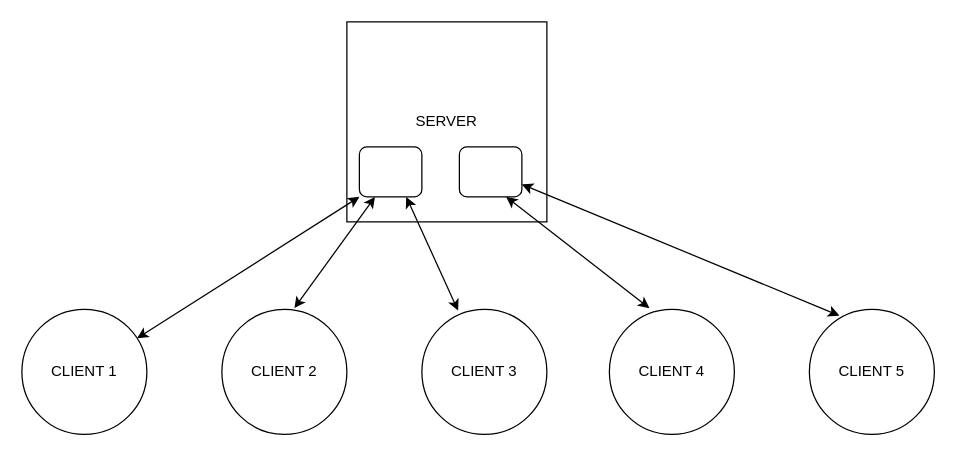
The diagram is 956 pixels wide and 456 high, and some of its shapes have lost their labels. The shapes that lost their labels are listed below. From the top down, each one's centre as x and y in pixels, then its label:
At pixel 390 171: "CHAN1".
At pixel 490 171: "CHAN2".
